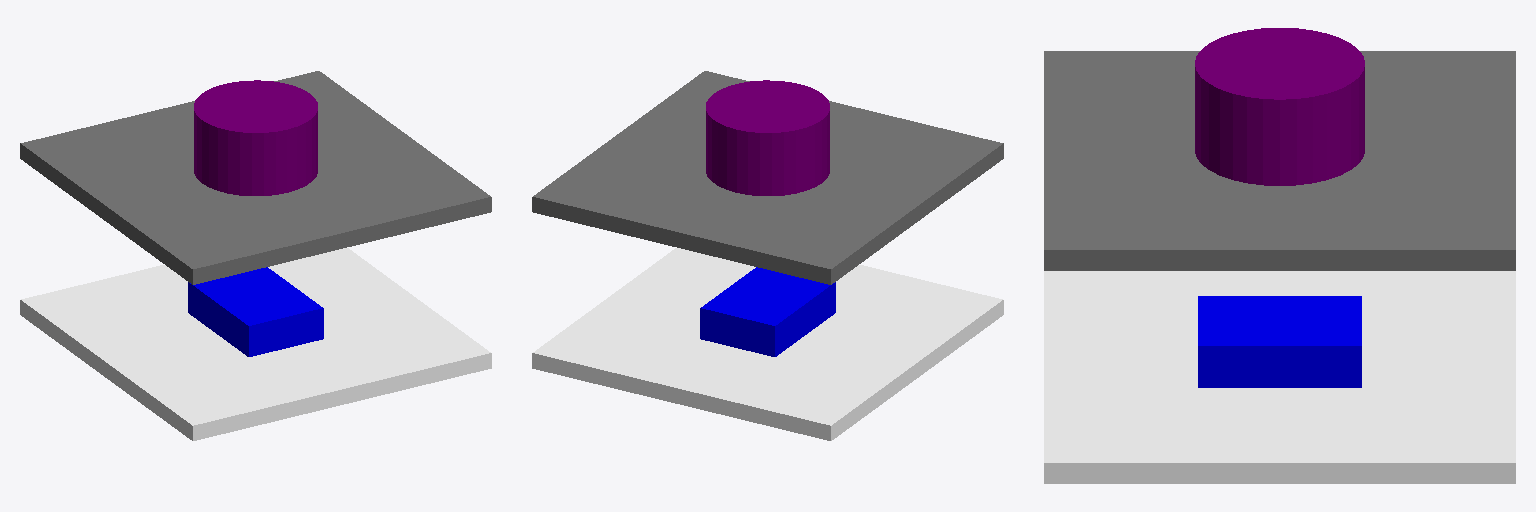
robot.urdf — robot0:
<?xml version="1.0"?>

<robot name="robot0">
  <!-- structure -->
  <link name="base_link">
    <visual>
        <origin xyz="0 0 0.005" rpy="0 0 0"/>
      <geometry>
         <box size="0.20 0.20 0.01" />
      </geometry>
  <material name="white">
            <color rgba="1 1 1 1"/>
          </material>
    </visual>
  </link>
<link name="top_link">
    <visual>
        <origin xyz="0 0 0.005" rpy="0 0 0"/>
      <geometry>
         <box size="0.20 0.20 0.01" />
      </geometry>
  <material name="white2">
            <color rgba="0.5 0.5 0.5 1"/>
          </material>
    </visual>
  </link>
<!-- sensors -->
 <link name="lidar_link">
    <visual>
        <origin xyz="0 0 0" rpy="0 0 0"/>
      <geometry>
         <cylinder  length="0.041" radius="0.03625"/>
      </geometry>
        <material name="purple">
            <color rgba="0.5 0 0.5 1"/>
          </material>
    </visual>
  </link>
 <link name="gyro_link">
    <visual>
        <origin xyz="0 0 0" rpy="0 0 0"/>
      <geometry>
         <box  size="0.05 0.07 0.02"/>
      </geometry>
        <material name="blue">
            <color rgba="0 0 1 1"/>
          </material>
    </visual>
  </link>
<!-- joints -->
  <joint name="base_to_lidar" type="fixed">
    <parent link="base_link"/>
    <child link="lidar_link"/>
    <origin xyz="0 0 0.13" rpy="0 0 0"/>
  </joint>
 <joint name="base_to_top" type="fixed">
    <parent link="base_link"/>
    <child link="top_link"/>
    <origin xyz="0 0 0.10" rpy="0 0 0"/>
  </joint>
 <joint name="base_to_gyro" type="fixed">
    <parent link="base_link"/>
    <child link="gyro_link"/>
    <origin xyz="0 0 0.02" rpy="0 0 0"/>
  </joint>
</robot>

--- Render facts (derived) ---
Views: 3 orthographic renders of the robot side by side, from view 1: azimuth 30°, elevation 25°; view 2: azimuth 150°, elevation 25°; view 3: azimuth 270°, elevation 25°.
Model robot0 with 4 links and 3 joints (3 fixed), rooted at base_link, posed all joints at 0.
Visible links, largest first — view 1: top_link, base_link, lidar_link, gyro_link; view 2: top_link, base_link, lidar_link, gyro_link; view 3: base_link, top_link, lidar_link, gyro_link.
Boxes of the visible links, x1=… form: top_link: x1=20, y1=71, x2=491, y2=284; base_link: x1=20, y1=248, x2=491, y2=440; lidar_link: x1=194, y1=80, x2=317, y2=195; gyro_link: x1=188, y1=267, x2=323, y2=356; top_link: x1=532, y1=71, x2=1003, y2=284; base_link: x1=532, y1=248, x2=1003, y2=440; lidar_link: x1=706, y1=80, x2=829, y2=195; gyro_link: x1=700, y1=267, x2=835, y2=356; base_link: x1=1044, y1=271, x2=1515, y2=483; top_link: x1=1044, y1=51, x2=1515, y2=270; lidar_link: x1=1195, y1=28, x2=1364, y2=185; gyro_link: x1=1198, y1=296, x2=1361, y2=387.
Size in the robot's own frame: 0.2 by 0.2 by 0.1505 metres.
Geometry: primitives only (box / cylinder / sphere), no mesh files.